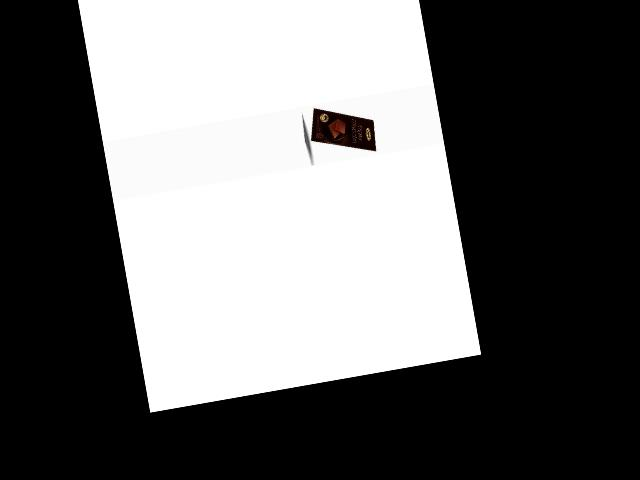chocolate: (302, 96, 379, 162)
